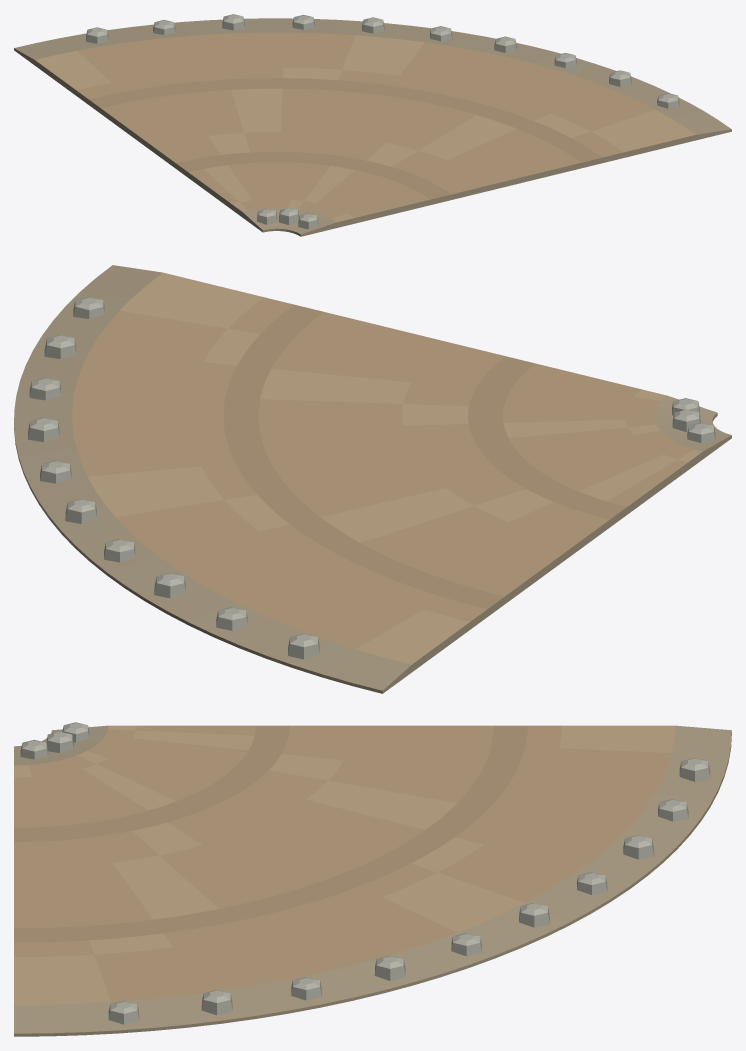
The model's file is road_turn.glb.
3 views of the same model, one above another, from view 1: azimuth 30°, elevation 25°; view 2: azimuth 150°, elevation 25°; view 3: azimuth 270°, elevation 25° (orthographic). The views are drawn at different scales.
Parts seen in each view (by area): view 1: RoadSurface, ShoulderDetails; view 2: RoadSurface, ShoulderDetails; view 3: RoadSurface, ShoulderDetails.
Part boxes in pixels (x1,y1,x2,y2): RoadSurface: [14, 18, 731, 236]; ShoulderDetails: [86, 14, 679, 229]; RoadSurface: [14, 265, 731, 693]; ShoulderDetails: [28, 296, 715, 659]; RoadSurface: [14, 725, 731, 1036]; ShoulderDetails: [20, 722, 710, 1024].
Size of the model in its own units: 3.8 by 0.105 by 3.8.
